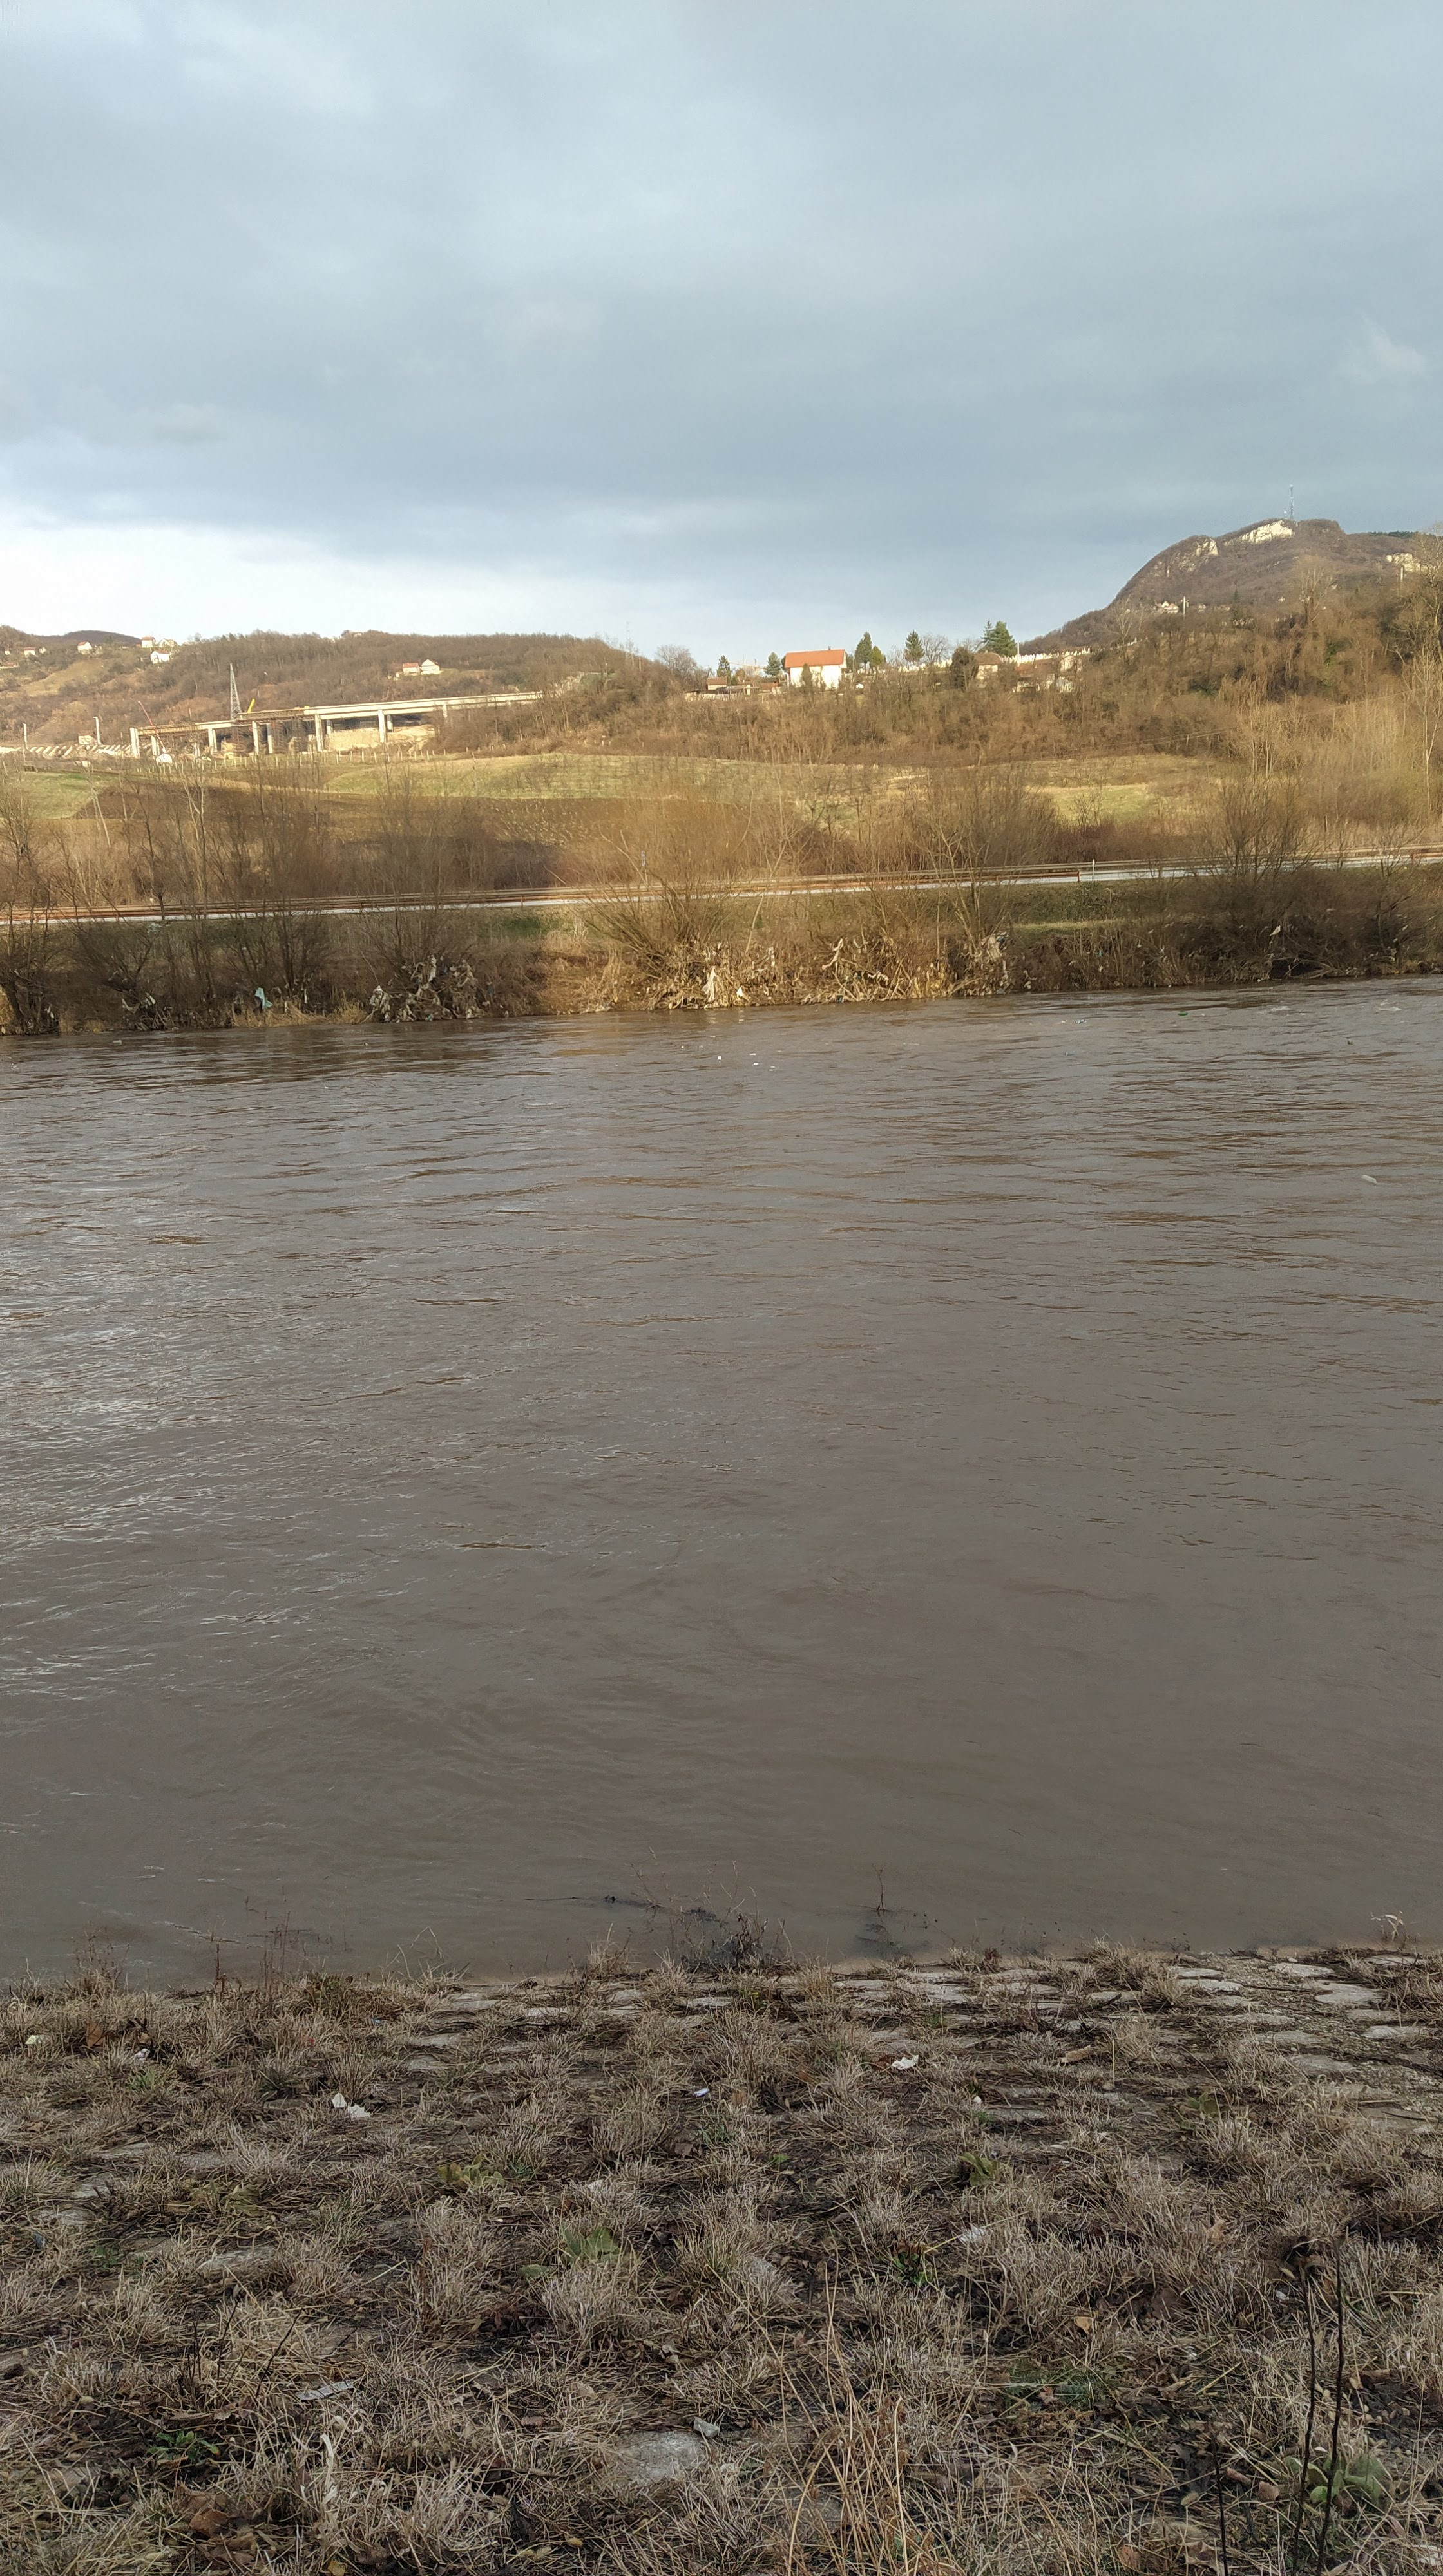Plastic Bottle: (1362, 1175, 1377, 1184), (1177, 1012, 1188, 1016), (113, 1040, 120, 1044), (749, 1053, 756, 1056), (1347, 1039, 1351, 1046), (717, 1056, 721, 1060), (752, 1063, 758, 1065)
